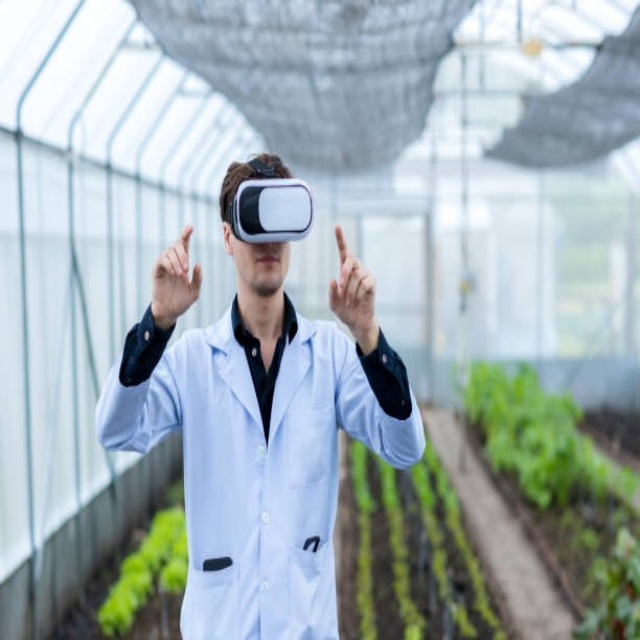Sin_guantes: (328, 226, 376, 335), (152, 218, 204, 314)
Sin_mascara: (251, 248, 280, 284)
